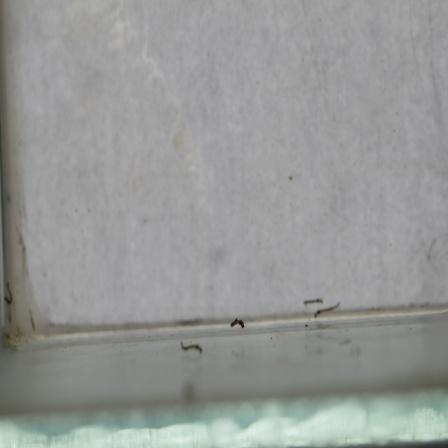Jentik-Nyamuk: (226, 313, 249, 333)
